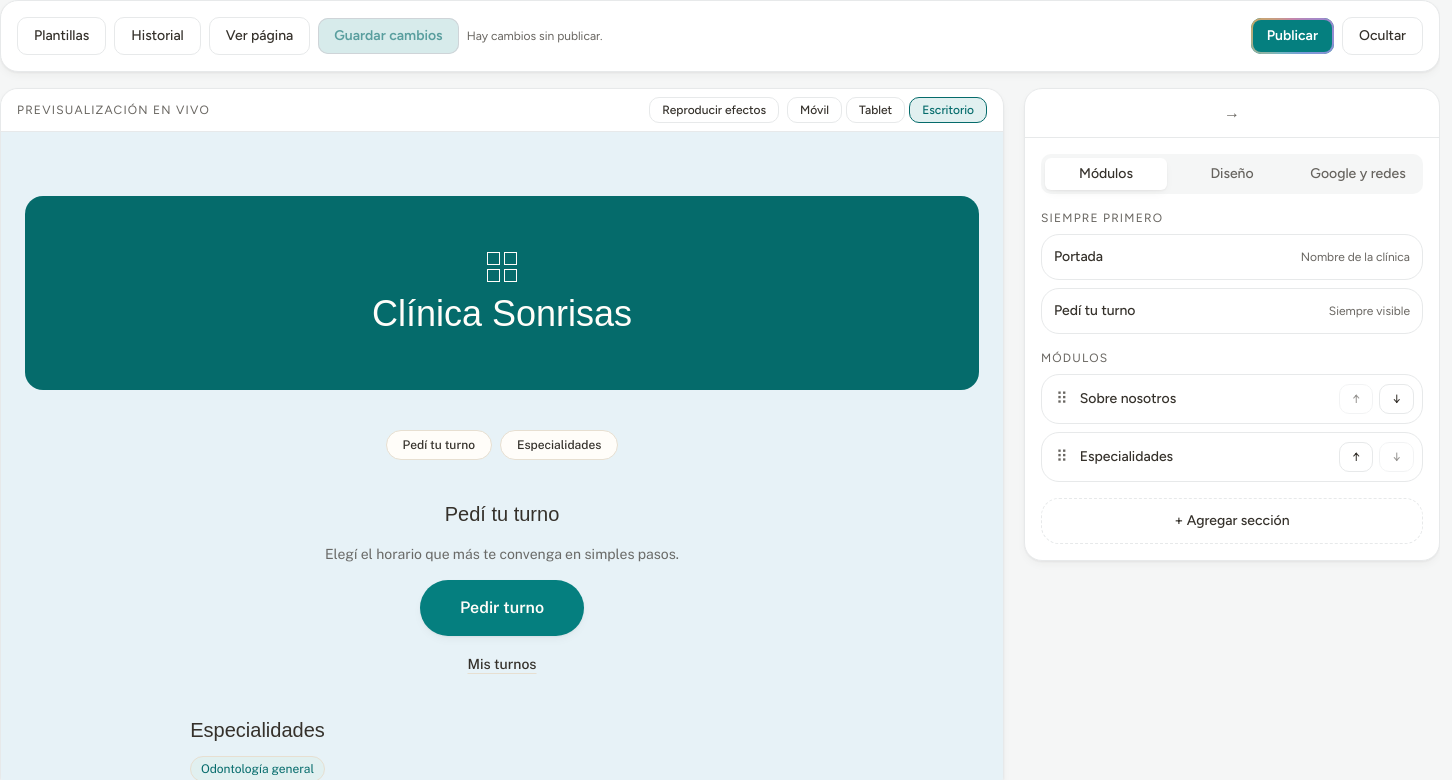
Test: PaginaEditor — edición › editar la bio actualiza la previsualización y habilita guardar
The width and height of the screenshot is (1452, 780).
Click the button "Sobre nosotros": (1206, 399) [1080,389,1333,409]
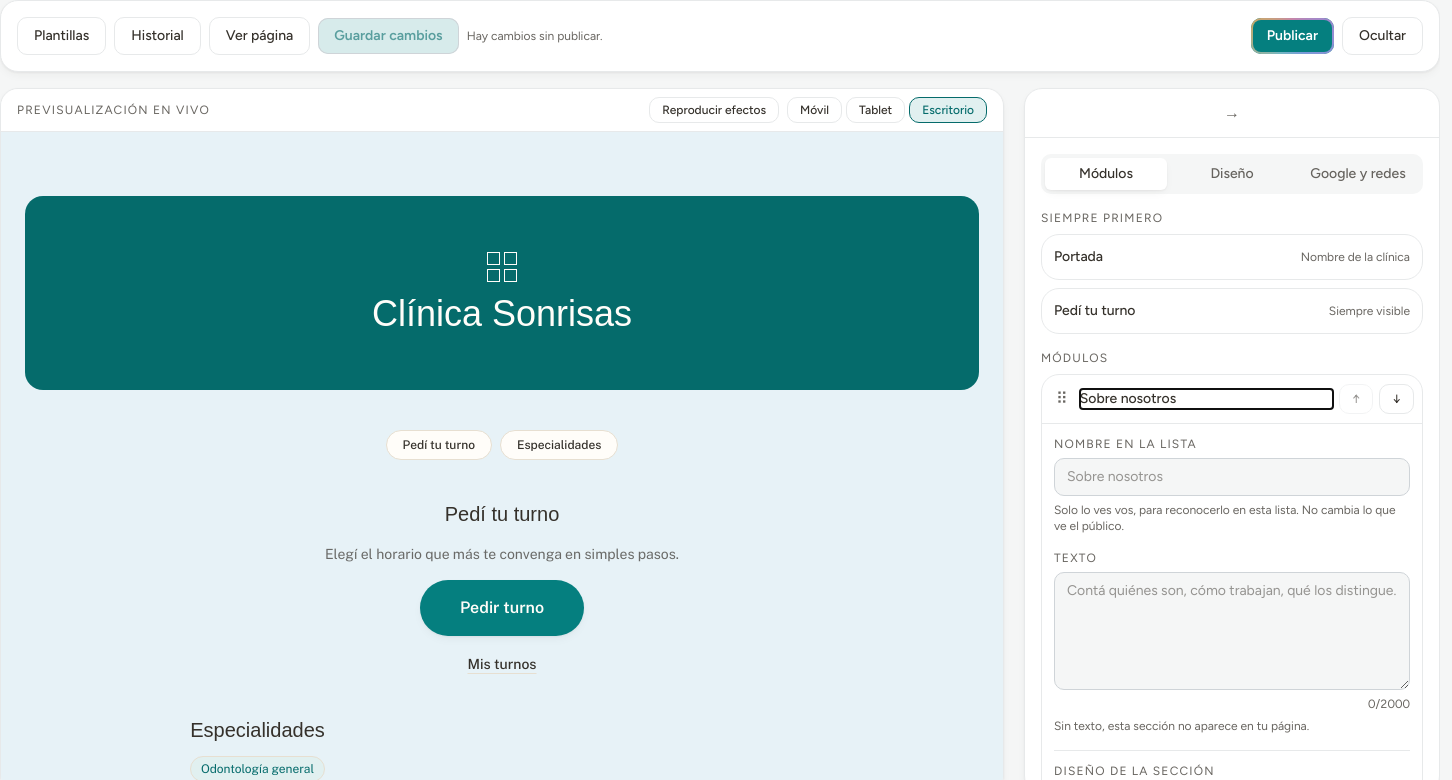
In the text box: (1232, 631) [1054,572,1410,690], type "Cuidamos tu sonrisa."
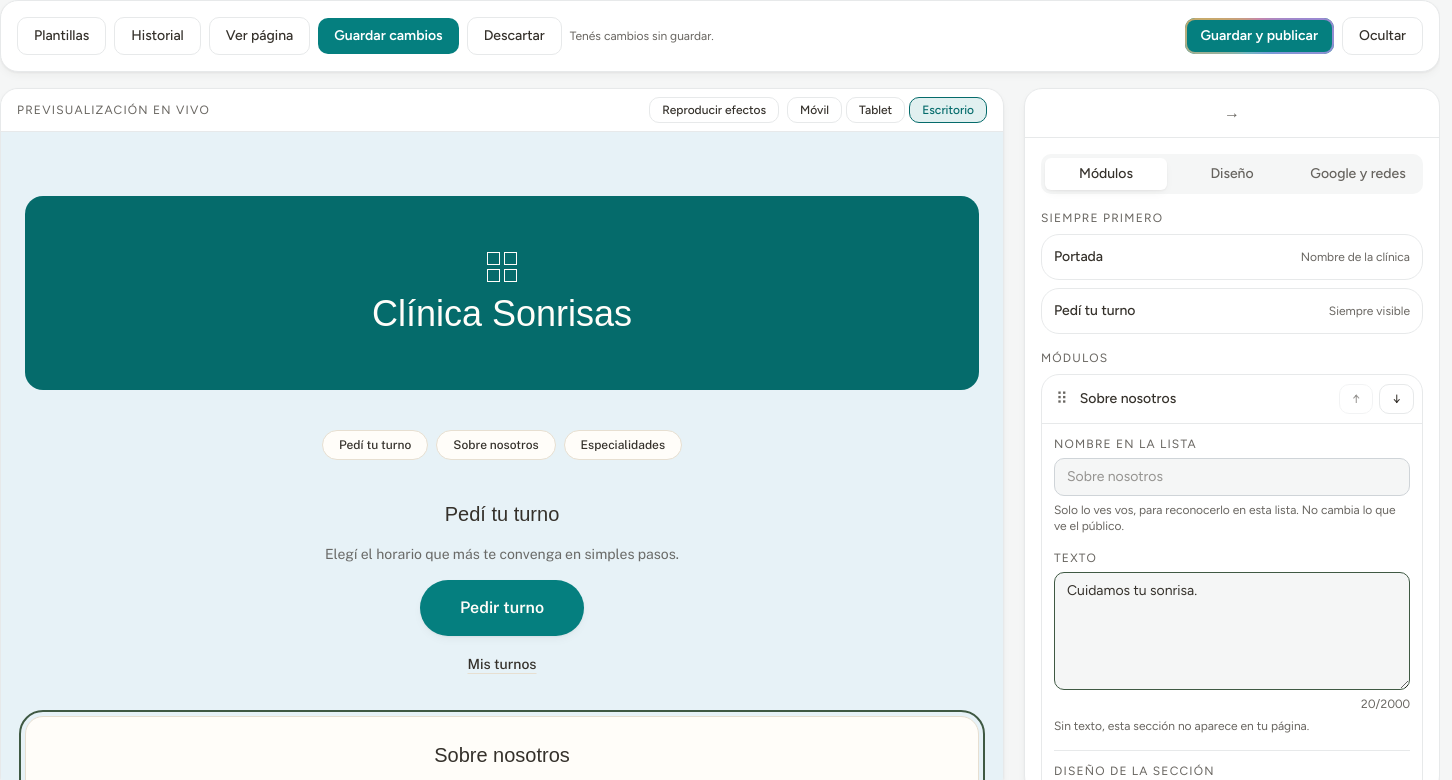
Expected: the heading "Sobre nosotros" is shown, [434,744,570,766]
Expected: the text "Tenés cambios sin guardar." is shown, [570,28,714,44]
Expected: the button "Guardar cambios" is enabled, [318,18,459,54]
